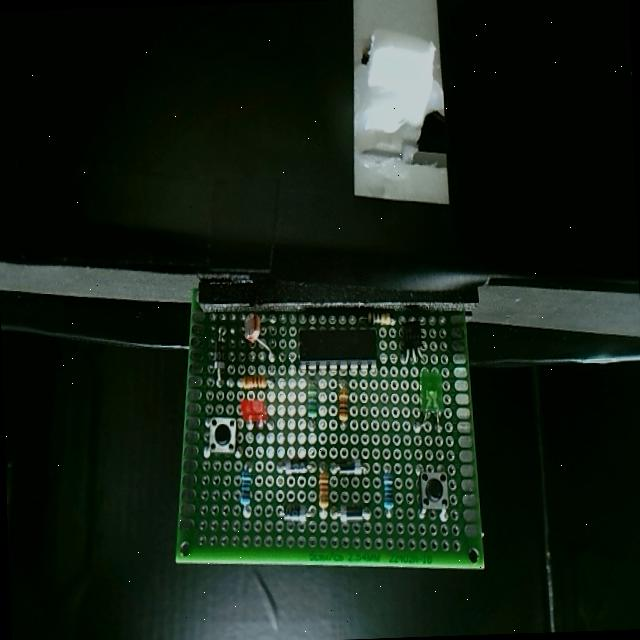IC: (290, 322, 388, 371)
cds: (241, 310, 269, 350)
diode: (203, 326, 233, 380), (272, 498, 314, 530), (336, 502, 372, 528), (333, 458, 367, 478), (282, 450, 310, 473)
led: (416, 366, 448, 421), (235, 395, 271, 429)
resistor: (329, 378, 358, 425), (299, 376, 326, 424), (234, 463, 256, 516), (234, 366, 268, 392), (378, 466, 396, 514), (315, 460, 328, 518)
switch: (416, 464, 454, 518), (206, 410, 238, 460)
transistor: (401, 322, 426, 359)
